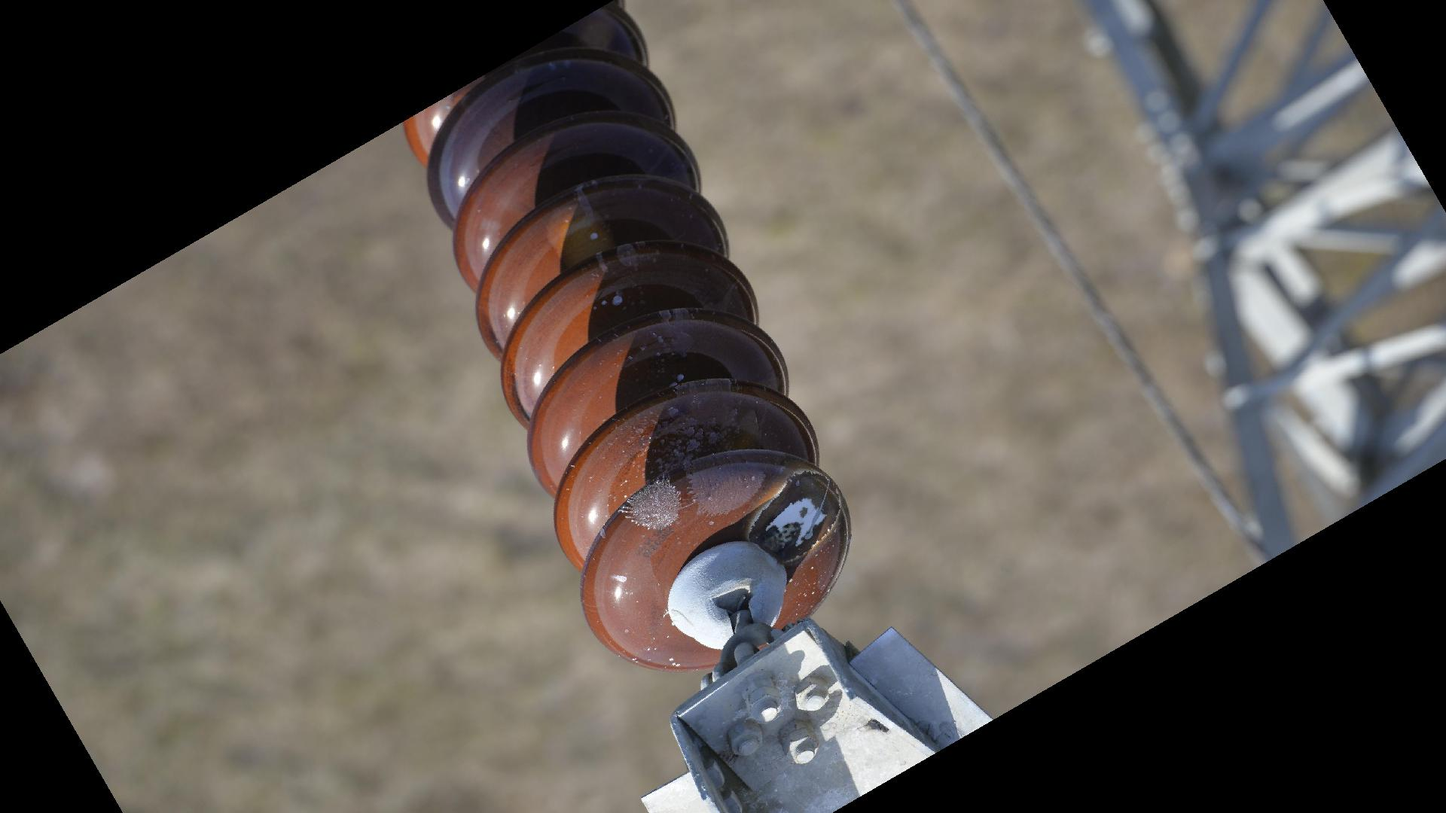insulator: (397, 1, 860, 677)
insulator_flashover: (747, 467, 847, 565), (541, 199, 618, 269)
